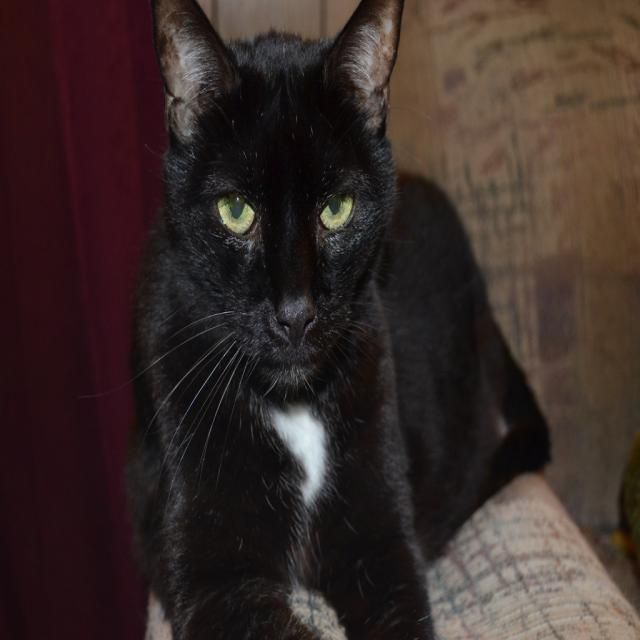Cat: (75, 0, 553, 639)
